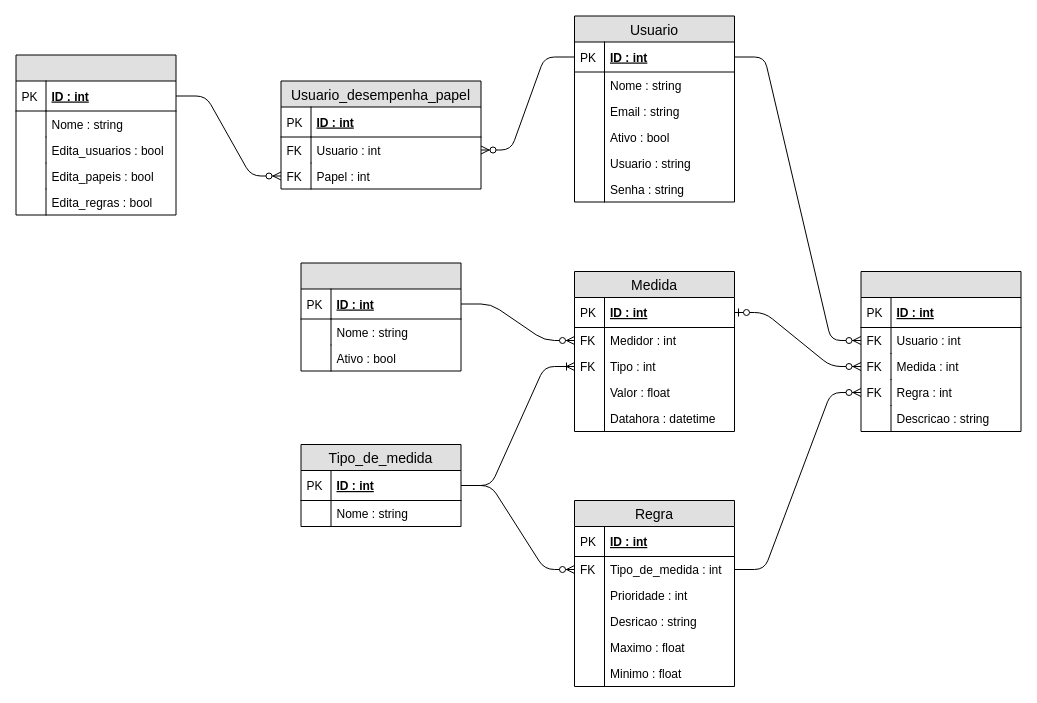
Image size: 1037x703. Some labels were removed from this diagram. The shapes that lost their labels are listed below. From the top down, each one's box as (x1, y1, x2, y2) in pixels, then its label:
(15, 54, 176, 215): Papel
(300, 262, 461, 371): Medidor
(860, 270, 1021, 432): Notificacao
